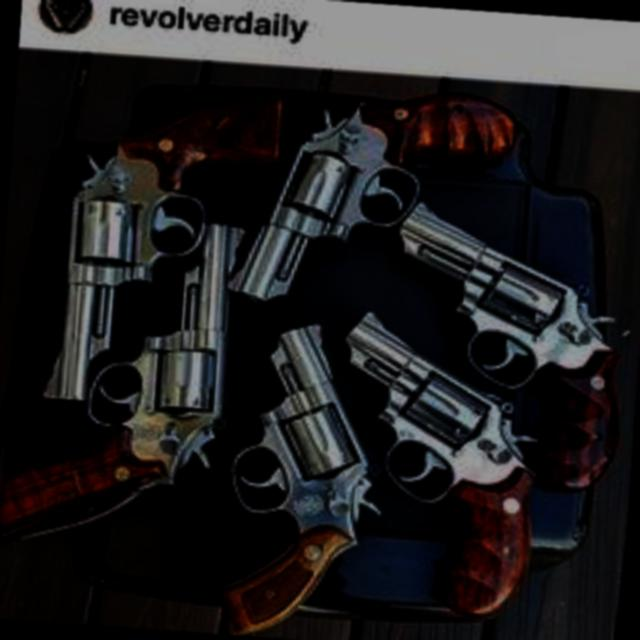revolver: (0, 59, 623, 453)
